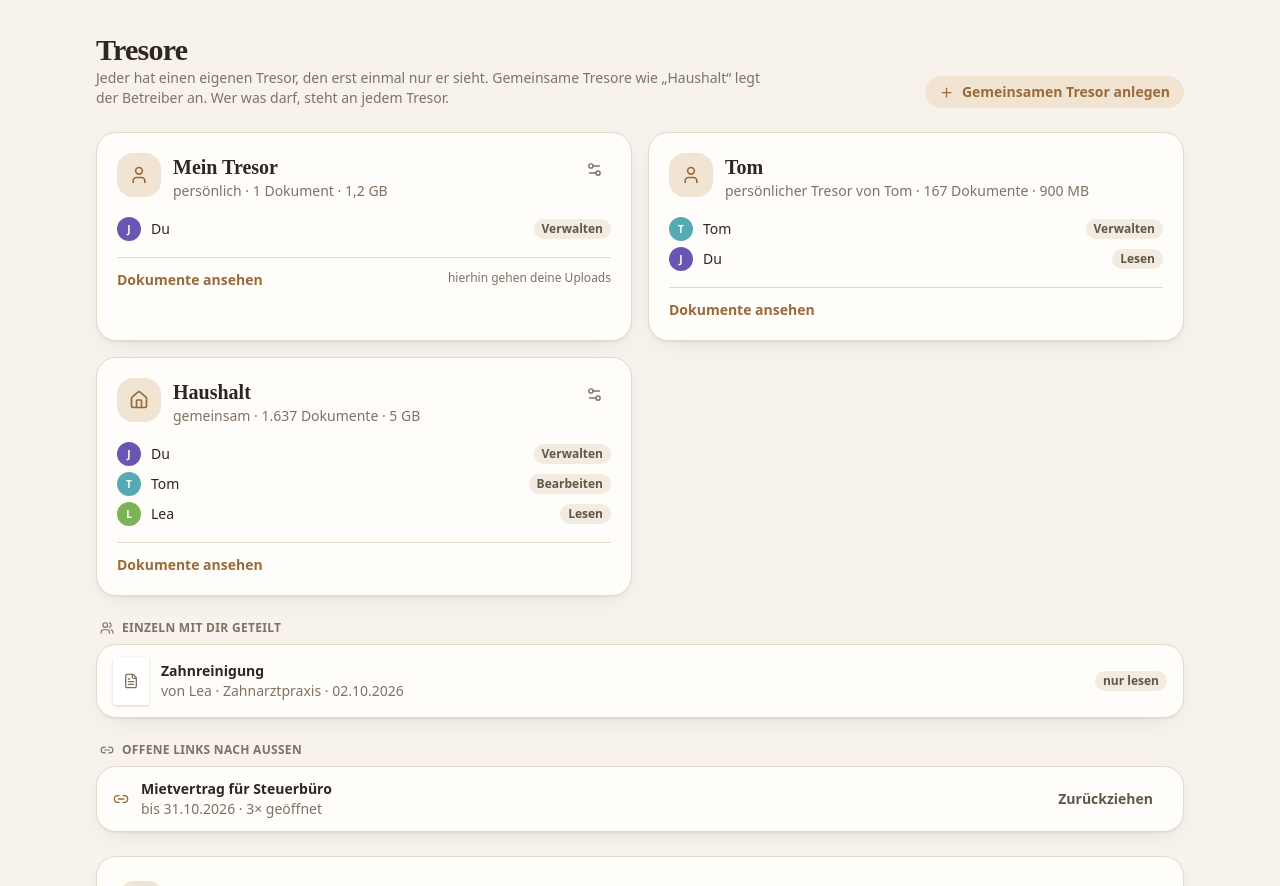
Test: the cards › list the documents shared one by one and the open links, and revoke a link
Click the button "Zurückziehen". click: (1106, 799)
box: [1044, 783, 1167, 815]
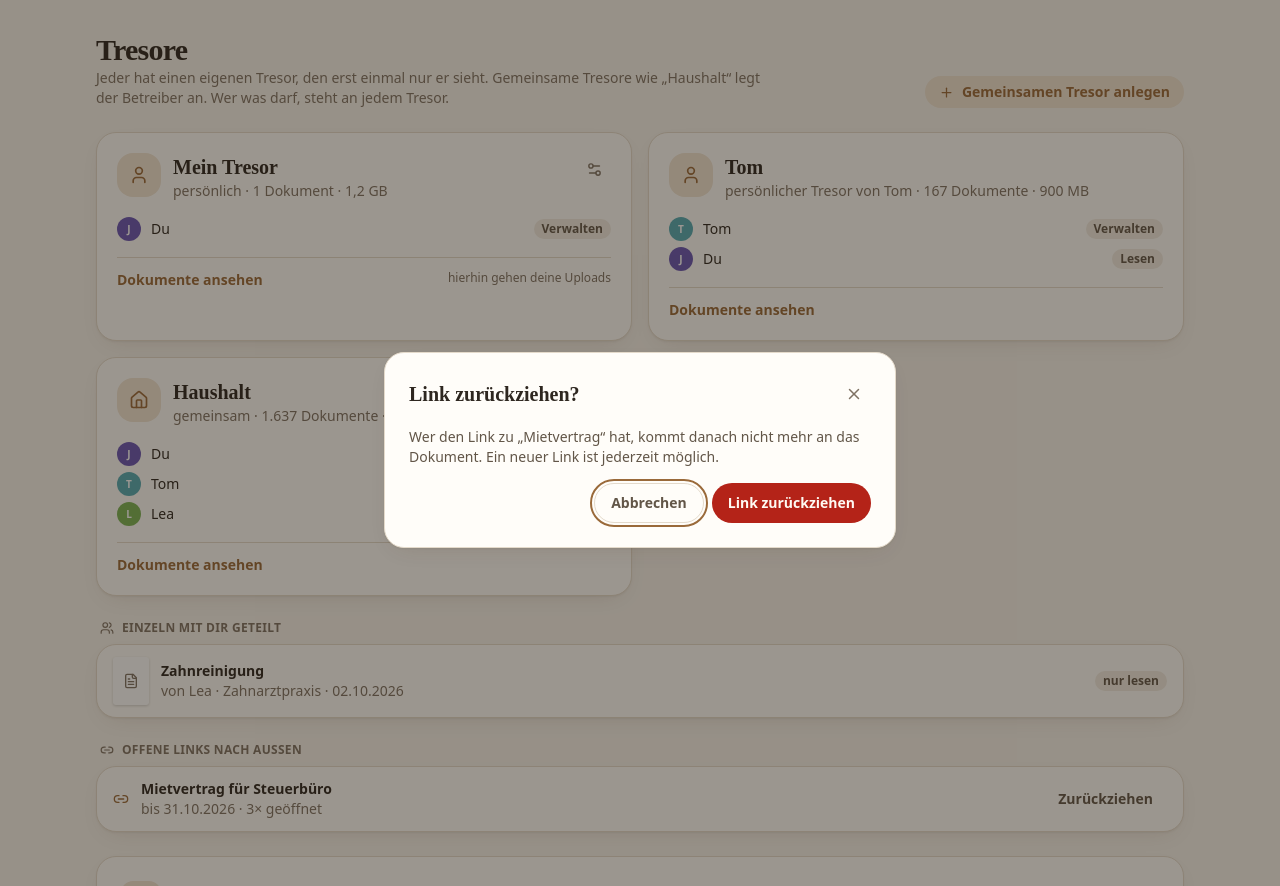
Check: the dialog is shown, box [384, 352, 896, 548]
Check: the button "Link zurückziehen" is shown
Click the button "Link zurückziehen". click: (791, 503)
box: [712, 483, 871, 523]
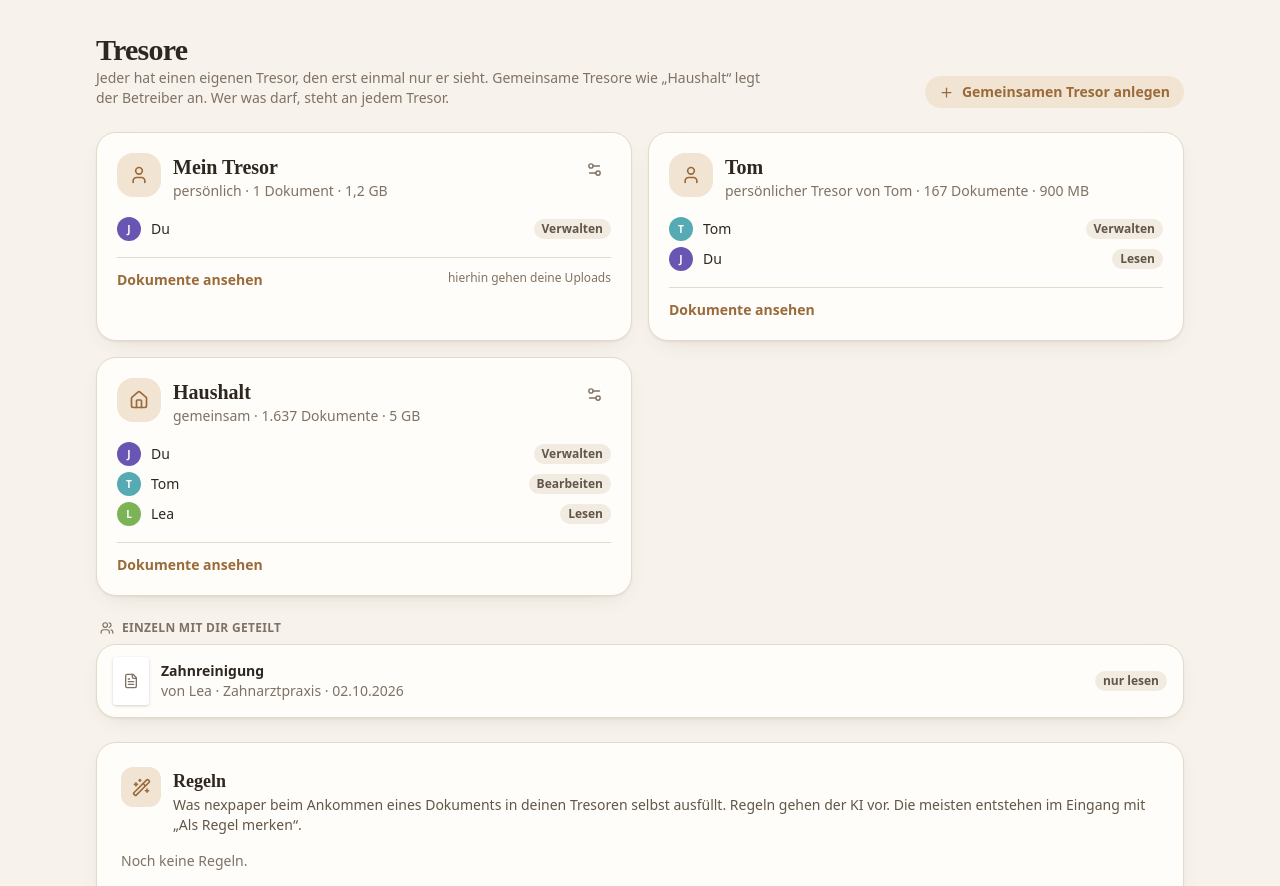
Check: the text "Mietvertrag für Steuerbüro" is gone
